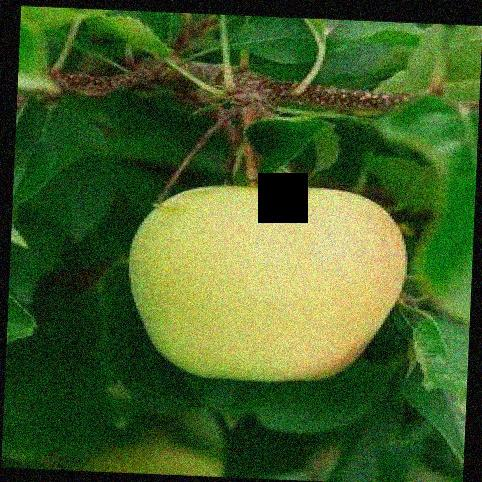green apple: (123, 182, 410, 382)
